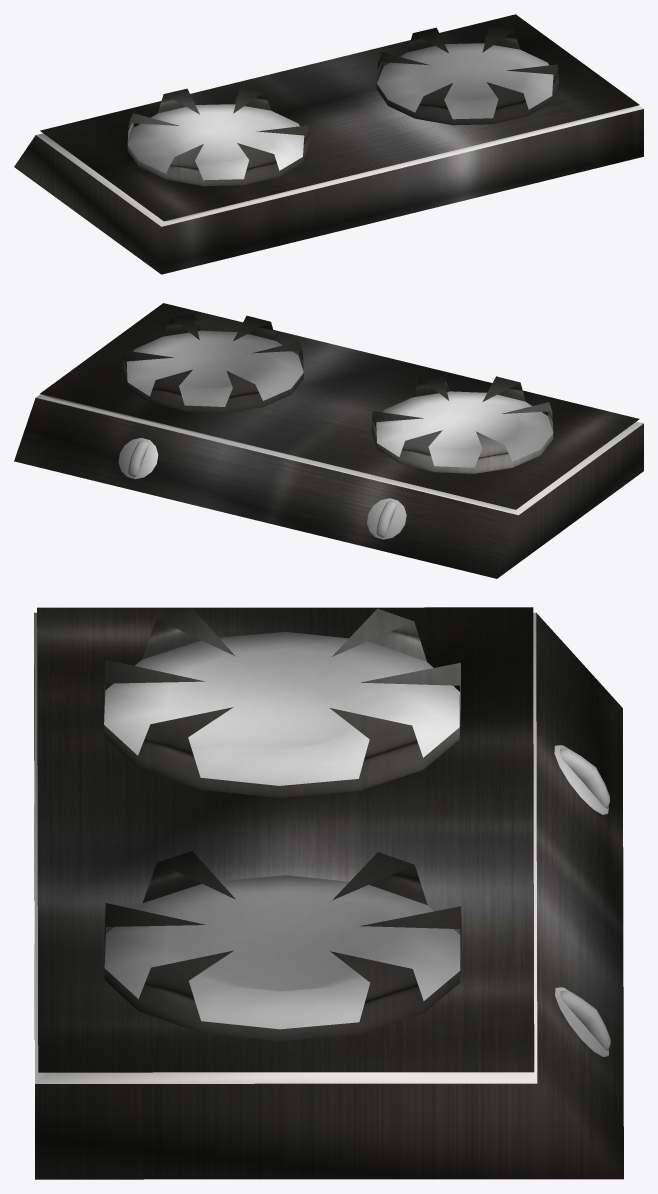
Rendered from Stove.fbx.
3 renders of one model, top to bottom at view 1: azimuth 30°, elevation 25°; view 2: azimuth 150°, elevation 25°; view 3: azimuth 270°, elevation 25°, orthographic. The views are drawn at different scales.
Visible parts, largest first — view 1: Kalan; view 2: Kalan; view 3: Kalan.
Boxes of the visible parts, x1,y1,x2,y2 form: Kalan: [14, 14, 643, 274]; Kalan: [14, 303, 643, 578]; Kalan: [34, 607, 623, 1179].
Size of the model in its own units: 2472 by 371 by 1307.
